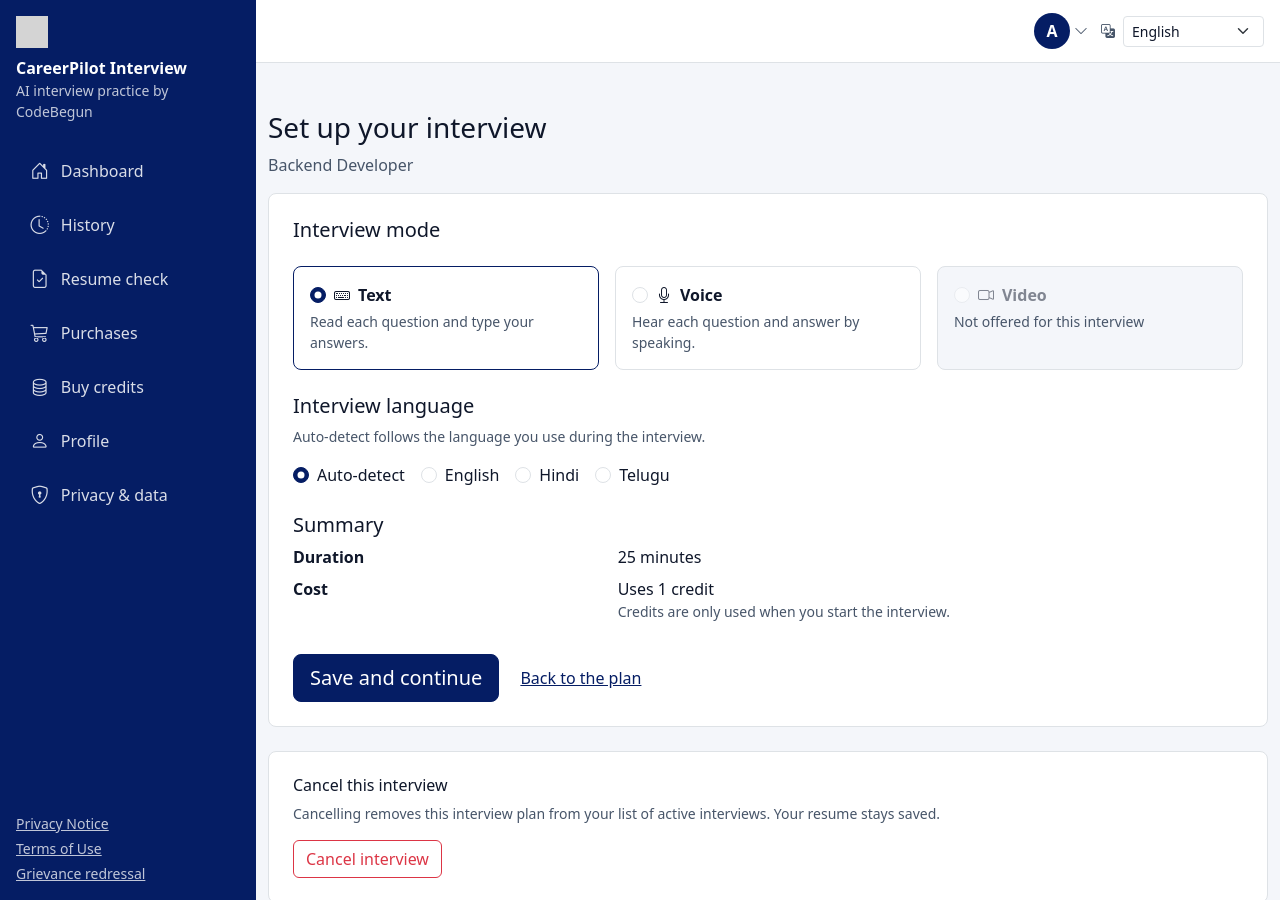
Test: interview setup page › only allows available modes and saves mode and language
This screenshot has width=1280, height=900.
Expected: the radio button labelled "Text" is checked, [310,287,326,303]
Expected: the radio button labelled "Voice" is enabled, [632,287,648,303]
Click the radio button labelled "Hindi" at (523, 475), box [515,467,531,483]
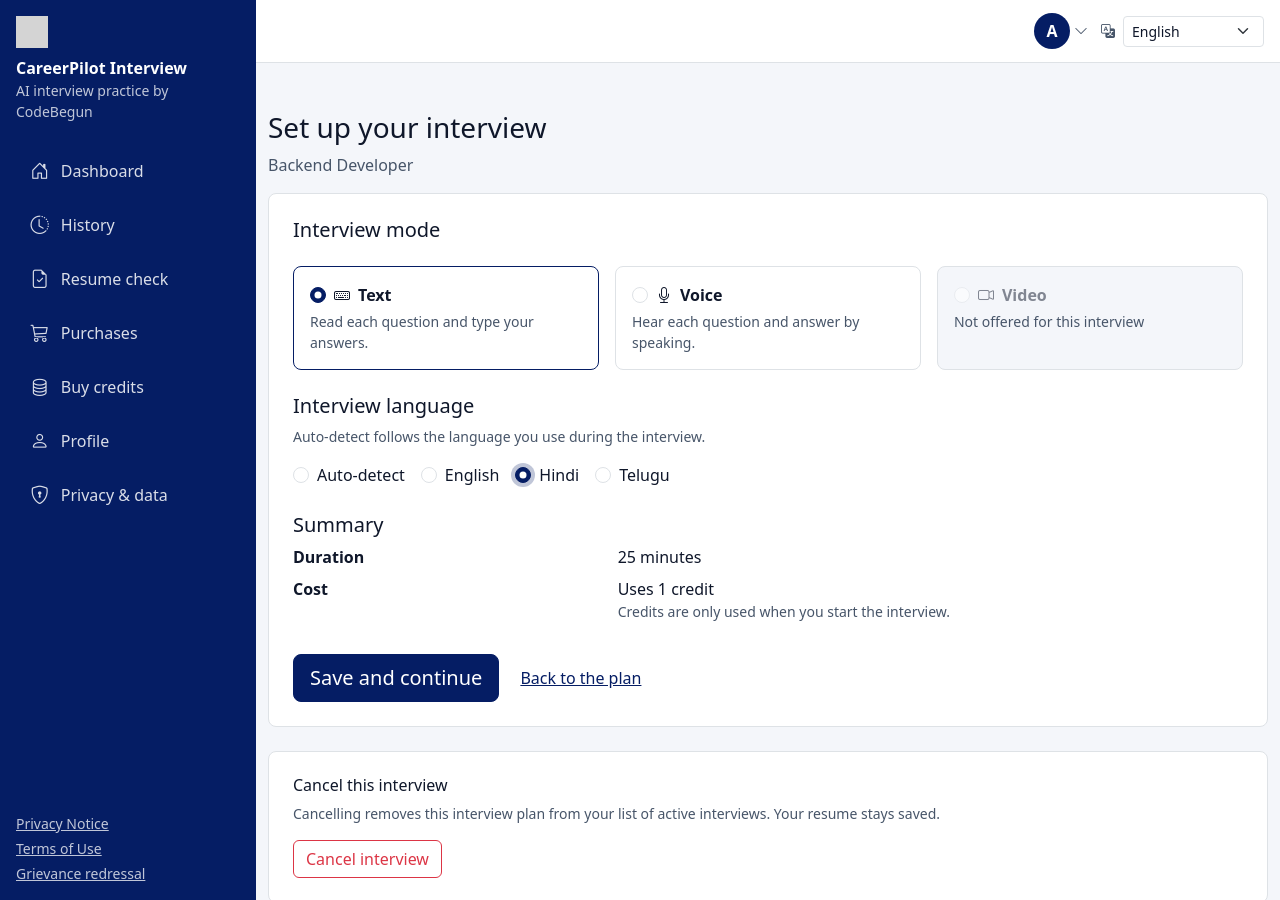
Click the button "Save and continue" at (396, 678), box [293,654,499,702]
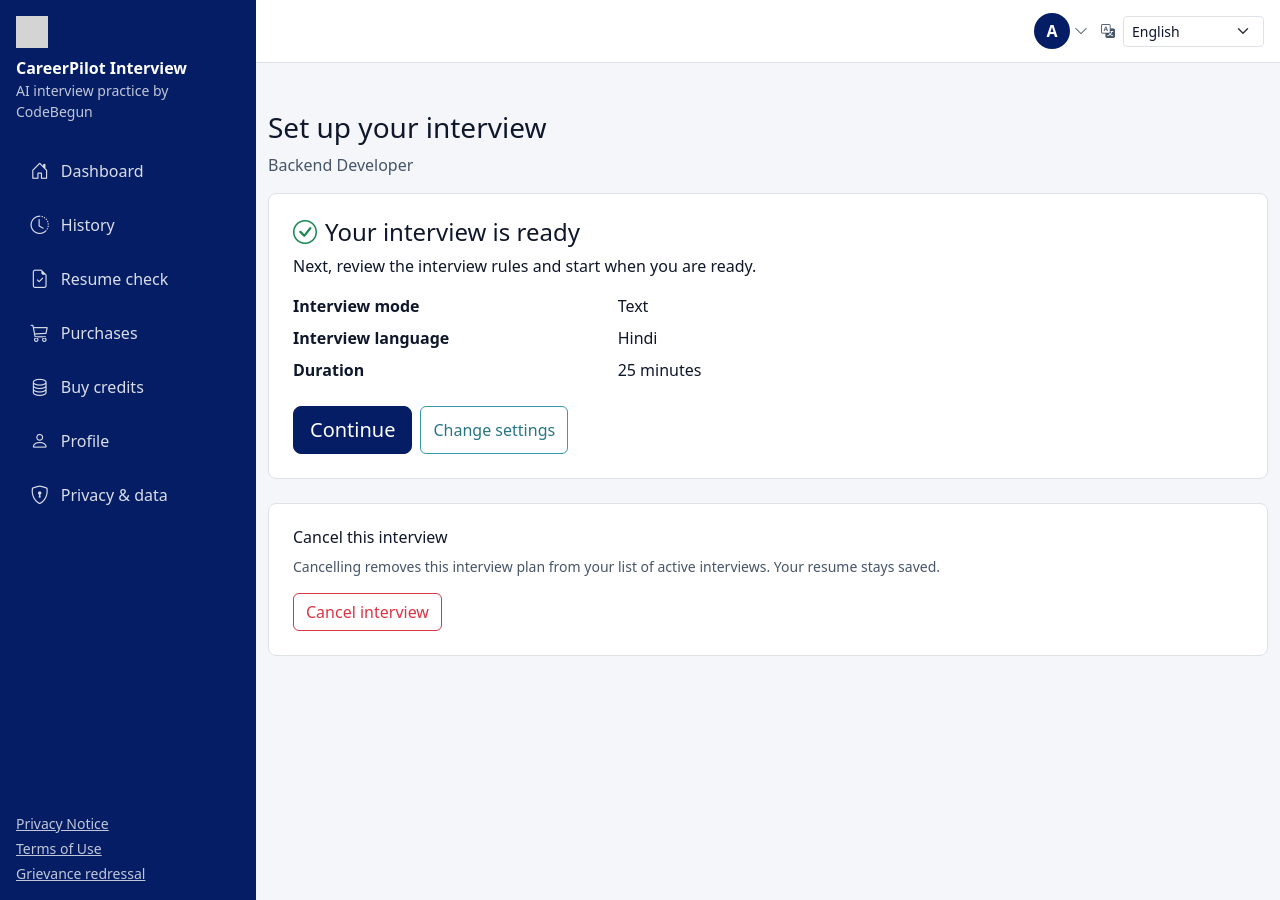
Expected: the button "Cancel interview" is shown, [293,593,442,631]
Expected: the heading "Your interview is ready" is shown, [293,215,580,248]
